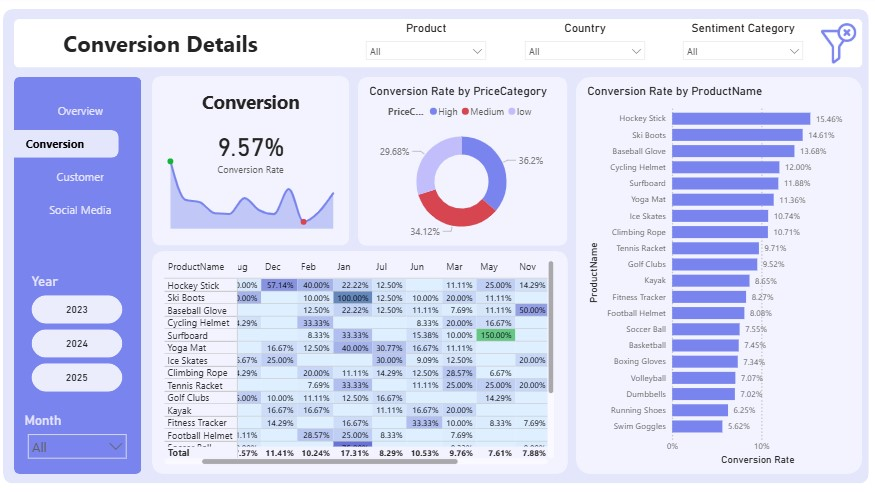

What the dashboard file says about the page in this screenshot:
{"tool":"powerbi","page":{"name":"Conversion Details","canvas":[1280,720],"ordinal":1},"visuals":[{"type":"shape","box":[16.7,18.3,1246.7,683.3],"z":0},{"type":"shape","box":[33.3,33.3,1221.7,70],"z":1000},{"type":"shape","box":[33.3,116.7,183.3,571.7],"z":2000},{"type":"textbox","box":[33.1,40.3,421.9,56.2],"z":3000},{"type":"advancedSlicerVisual","fields":{"Values":["Calendar.Year"]},"box":[53.3,398.3,141.7,178.3],"z":4000},{"type":"slicer","title":"Month","fields":{"Values":["Calendar.Date.Variation.Date Hierarchy.Month"]},"box":[43.3,598.3,161.7,68.3],"z":5000},{"type":"actionButton","box":[16.7,145,166.7,40],"z":6000},{"type":"actionButton","box":[16.7,240,166.7,40],"z":7000},{"type":"actionButton","box":[16.7,288.3,166.7,40],"z":8000},{"type":"actionButton","box":[16.7,193.3,166.7,40],"z":9000},{"type":"image","box":[1186.7,33.3,68.3,70],"z":10000},{"type":"shape","box":[842.4,116.6,411.8,571.7],"z":11000},{"type":"shape","box":[231.4,115.7,284.3,244.3],"z":12000},{"type":"textbox","box":[231.4,128.6,284.3,57.1],"z":13000},{"type":"shape","box":[528.3,116.7,301.7,243.3],"z":14000},{"type":"card","fields":{"Values":["_Calculations.Conversion Rate"]},"box":[231.4,175.7,284.3,94.3],"z":15000},{"type":"clusteredBarChart","fields":{"Y":["_Calculations.Conversion Rate"],"Category":["dim_products.ProductName"]},"box":[853.3,126.7,391.1,553.3],"z":16000},{"type":"donutChart","fields":{"Y":["_Calculations.Conversion Rate"],"Category":["dim_products.PriceCategory"]},"box":[540,126.7,275,233.3],"z":17000},{"type":"shape","box":[232.2,366.7,598.9,321.1],"z":18000},{"type":"pivotTable","fields":{"Rows":["dim_products.ProductName"],"Values":["_Calculations.Conversion Rate"],"Columns":["Calendar.MonthNameShort"]},"box":[244.3,375.7,571.4,304.3],"z":19000},{"type":"lineChart","fields":{"Y":["_Calculations.Conversion Rate"],"Category":["Calendar.Date.Variation.Date Hierarchy.Month"]},"box":[244.3,202.9,261.4,137.1],"z":20000},{"type":"slicer","title":"Product","fields":{"Values":["dim_products.ProductName"]},"box":[530,36.7,193.3,65],"z":21000},{"type":"slicer","title":"Sentiment Category","fields":{"Values":["fact_customer_reviews_with_sentiment.SentimentCategory"]},"box":[986.7,36.7,193.3,65],"z":22000},{"type":"slicer","title":"Country","fields":{"Values":["dim_customers.Country"]},"box":[758.3,36.7,193.3,65],"z":23000}]}

Visuals, with their boxes in screenshot pixels (x1, y1, x2, y2), scaled from the page's 1280x720 canvas onto the 875x492 screenshot:
shape: <region>11, 13, 864, 479</region>
shape: <region>23, 23, 858, 71</region>
shape: <region>23, 80, 148, 470</region>
textbox: <region>23, 28, 311, 66</region>
advancedSlicerVisual - Calendar.Year: <region>36, 272, 133, 394</region>
"Month" slicer: <region>30, 409, 140, 456</region>
actionButton: <region>11, 99, 125, 126</region>
actionButton: <region>11, 164, 125, 191</region>
actionButton: <region>11, 197, 125, 224</region>
actionButton: <region>11, 132, 125, 159</region>
image: <region>811, 23, 858, 71</region>
shape: <region>576, 80, 857, 470</region>
shape: <region>158, 79, 353, 246</region>
textbox: <region>158, 88, 353, 127</region>
shape: <region>361, 80, 567, 246</region>
card - _Calculations.Conversion Rate: <region>158, 120, 353, 184</region>
clusteredBarChart - _Calculations.Conversion Rate x dim_products.ProductName: <region>583, 87, 851, 465</region>
donutChart - _Calculations.Conversion Rate x dim_products.PriceCategory: <region>369, 87, 557, 246</region>
shape: <region>159, 251, 568, 470</region>
pivotTable - dim_products.ProductName x _Calculations.Conversion Rate: <region>167, 257, 558, 465</region>
lineChart - _Calculations.Conversion Rate x Calendar.Date.Variation.Date Hierarchy.Month: <region>167, 139, 346, 232</region>
"Product" slicer: <region>362, 25, 494, 69</region>
"Sentiment Category" slicer: <region>675, 25, 807, 69</region>
"Country" slicer: <region>518, 25, 651, 69</region>
